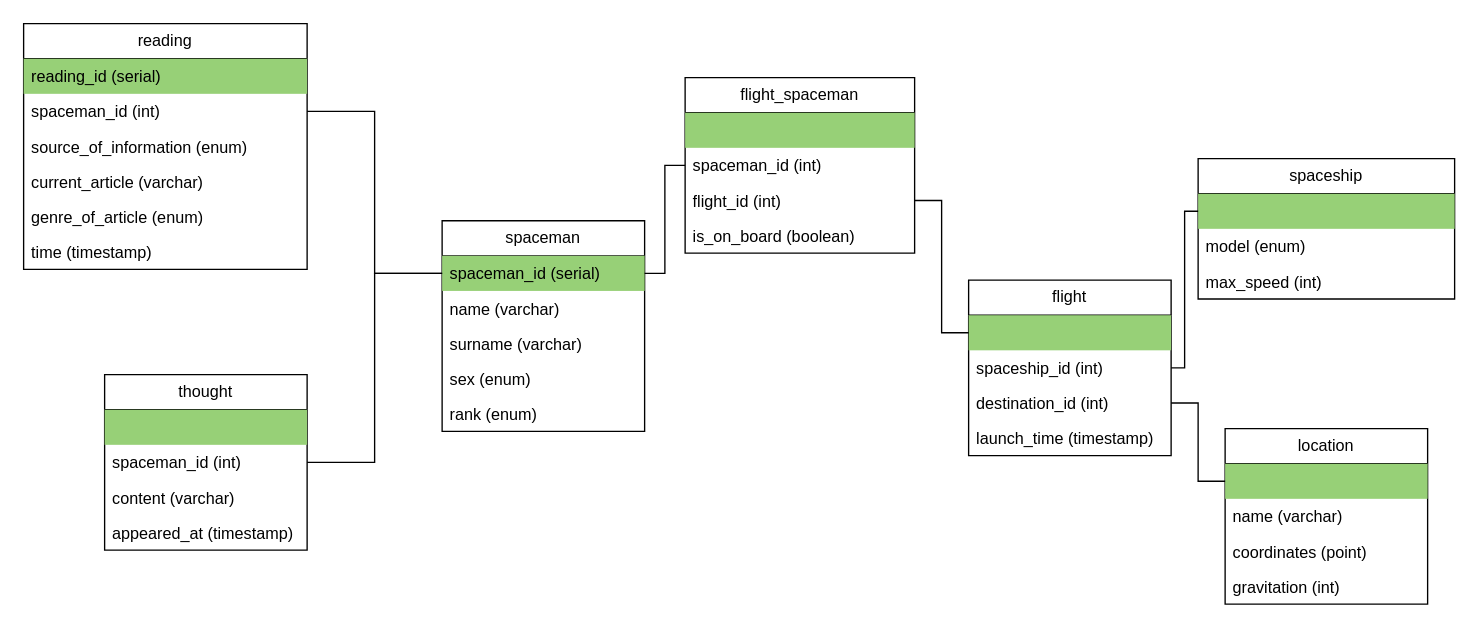
This 1478x632 diagram has some shape labels left out. Here are the shapes that lost their labels. From the top down, the box of each, then its label:
(684, 112, 914, 147): flight_spaceman_id (serial)
(1197, 193, 1454, 228): spaceship_id (serial)
(968, 315, 1170, 350): flight_id (serial)
(104, 409, 306, 444): thought_id (serial)
(1224, 463, 1427, 498): location_id (serial)
